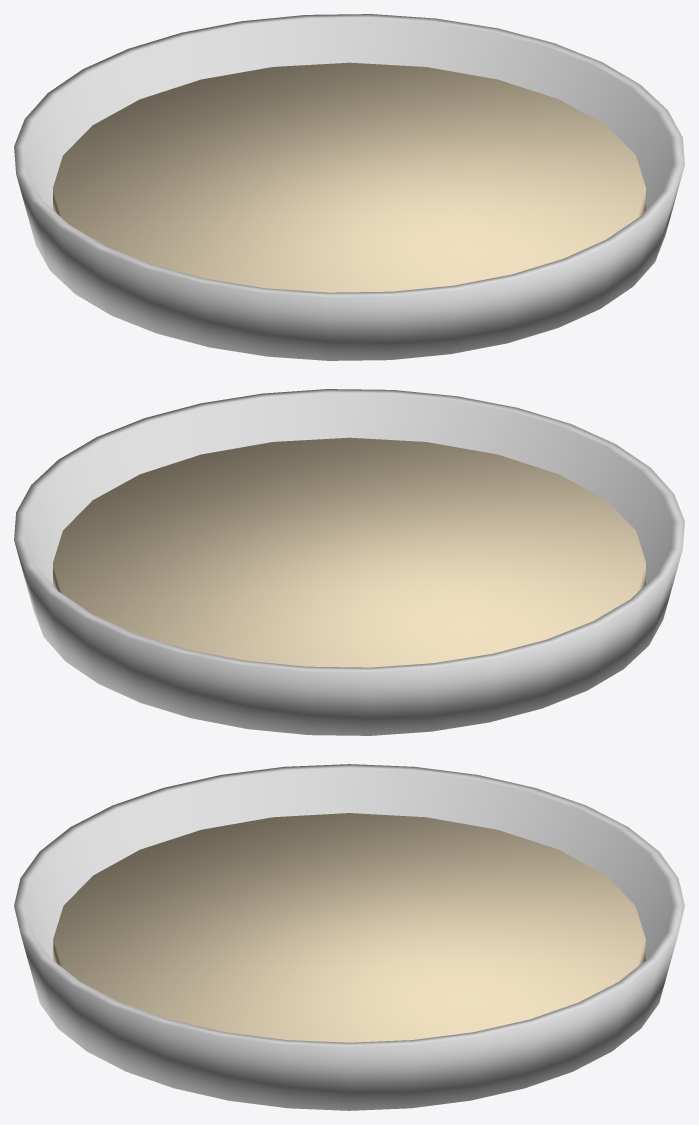
Rendered from mix_sand_clips.glb.
The picture shows the model from 3 angles, top to bottom: view 1: azimuth 30°, elevation 25°; view 2: azimuth 150°, elevation 25°; view 3: azimuth 270°, elevation 25°; orthographic projection.
Visible parts, largest first — view 1: mix_sand, mix_tray; view 2: mix_sand, mix_tray; view 3: mix_sand, mix_tray.
Boxes of the visible parts, bbox=[...] form: mix_sand: bbox=[53, 62, 645, 292]; mix_tray: bbox=[14, 14, 684, 360]; mix_sand: bbox=[53, 437, 645, 667]; mix_tray: bbox=[14, 389, 684, 735]; mix_sand: bbox=[53, 813, 645, 1042]; mix_tray: bbox=[14, 764, 684, 1110].
Bounding box in the file's own units: 0.17 × 0.02 × 0.17.
